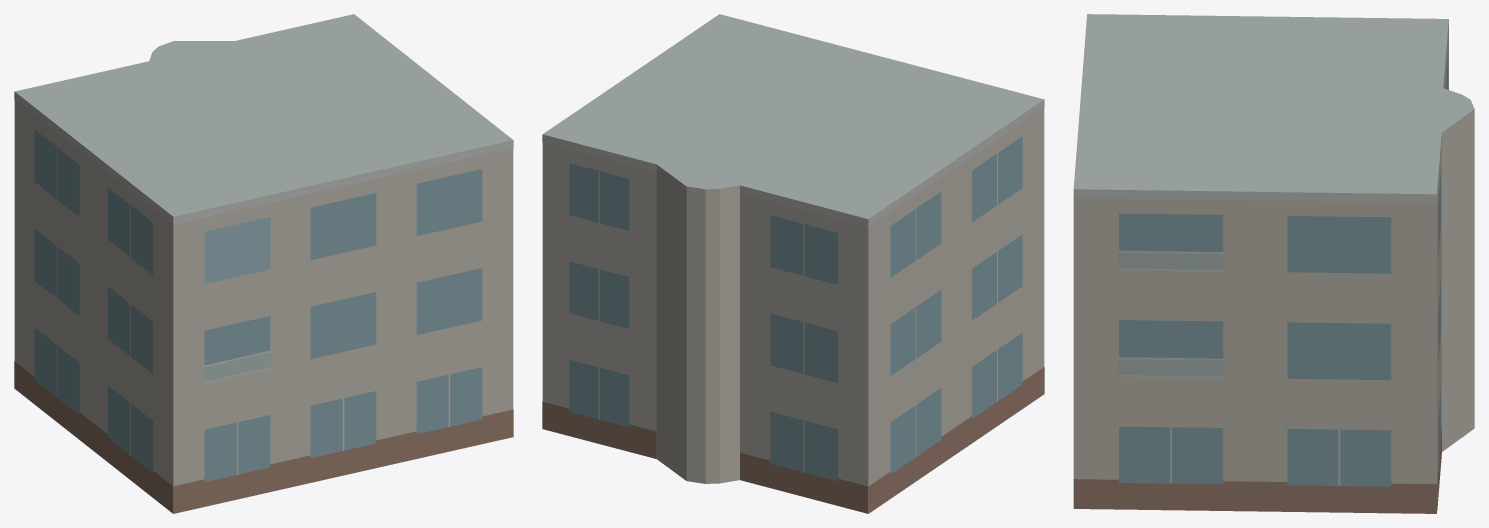
File: survey-upis-32781372.glb
The picture shows the model from 3 angles, left to right: view 1: azimuth 30°, elevation 25°; view 2: azimuth 150°, elevation 25°; view 3: azimuth 270°, elevation 25°; orthographic projection. The views are drawn at different scales.
Parts seen in each view (by area): view 1: survey-upis-32781372.tmp; view 2: survey-upis-32781372.tmp; view 3: survey-upis-32781372.tmp.
Part boxes in pixels (left/top/right/bottom): survey-upis-32781372.tmp: left=14, top=14, right=513, bottom=513; survey-upis-32781372.tmp: left=542, top=14, right=1044, bottom=513; survey-upis-32781372.tmp: left=1073, top=14, right=1474, bottom=513.
Bounding box in the file's own units: 11.08 × 9.15 × 10.41.
